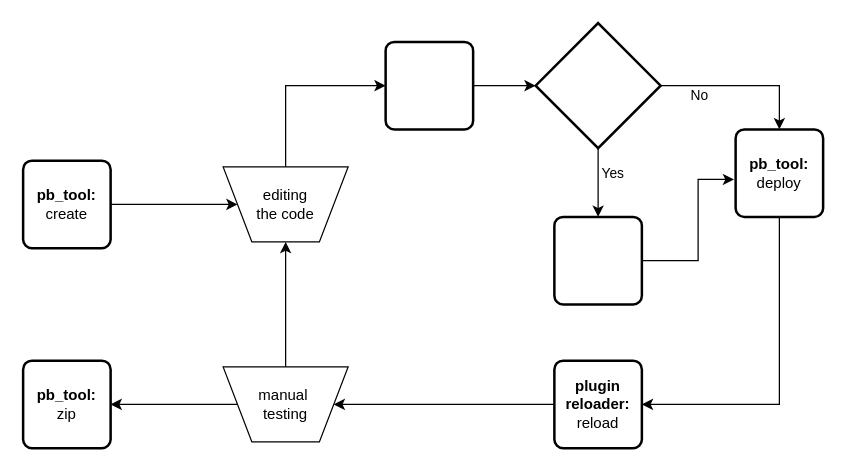
Some shapes in this 845 by 470 pixel diagram are drawn without their labels. The centre of each missing label's shape, as x and y in pixels:
"linting, testing" goes at point 429,85.
"Need to compile?" goes at point 597,85.
"pb_tool: compile" goes at point 597,260.
